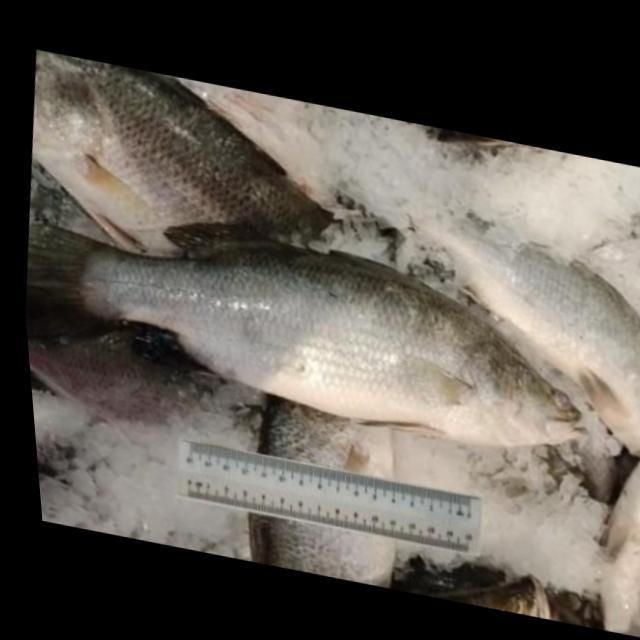Seabass: (15, 187, 608, 467)
